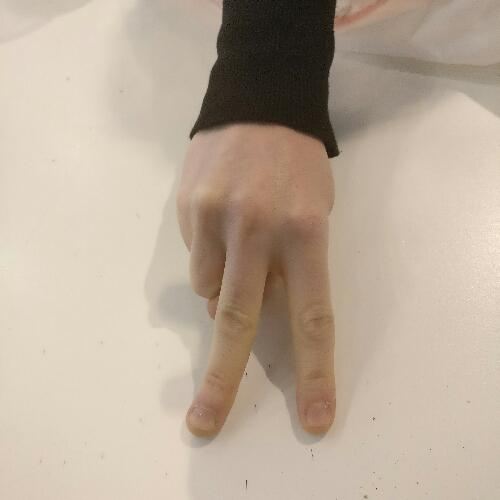scissors: (168, 110, 354, 448)
